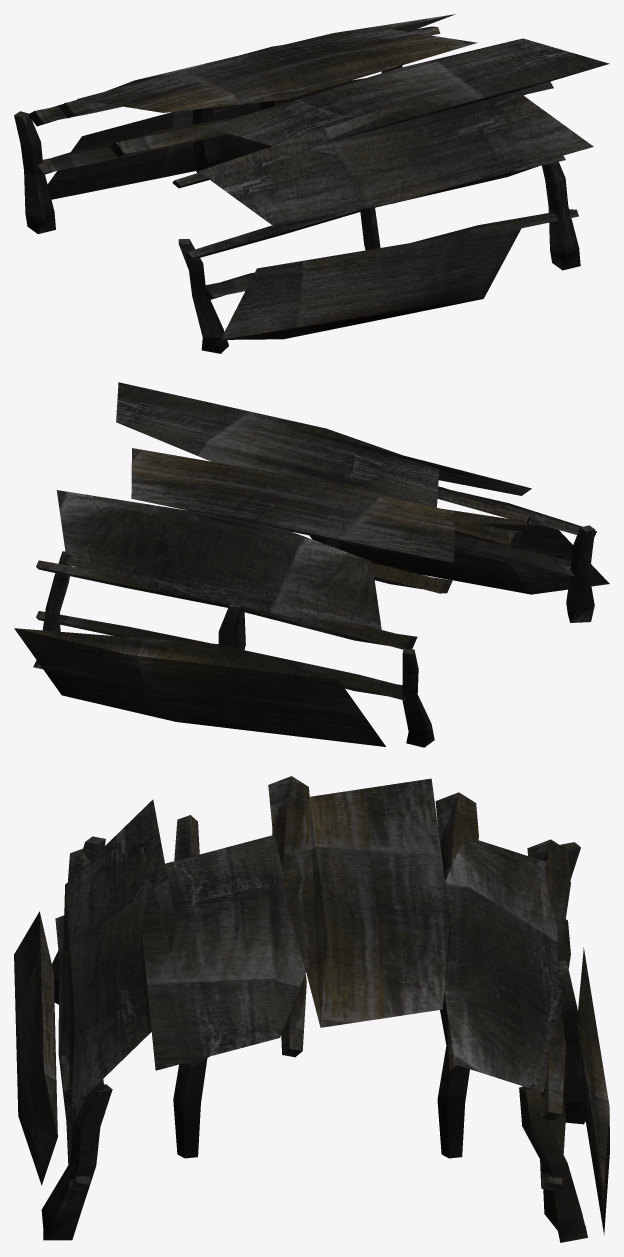
The model's file is shack.obj.
3 views of the same model, one above another, from view 1: azimuth 30°, elevation 25°; view 2: azimuth 150°, elevation 25°; view 3: azimuth 270°, elevation 25° (orthographic). The views are drawn at different scales.
Visible parts, largest first — view 1: Shack_Cube.039; view 2: Shack_Cube.039; view 3: Shack_Cube.039.
Boxes of the visible parts, box(x1,y1,x2,y2) form: Shack_Cube.039: box(14, 14, 609, 353); Shack_Cube.039: box(14, 382, 609, 747); Shack_Cube.039: box(14, 776, 609, 1242).
Bounding box in the file's own units: 15.76 × 5.83 × 12.88.
1 material, 1 textured.
